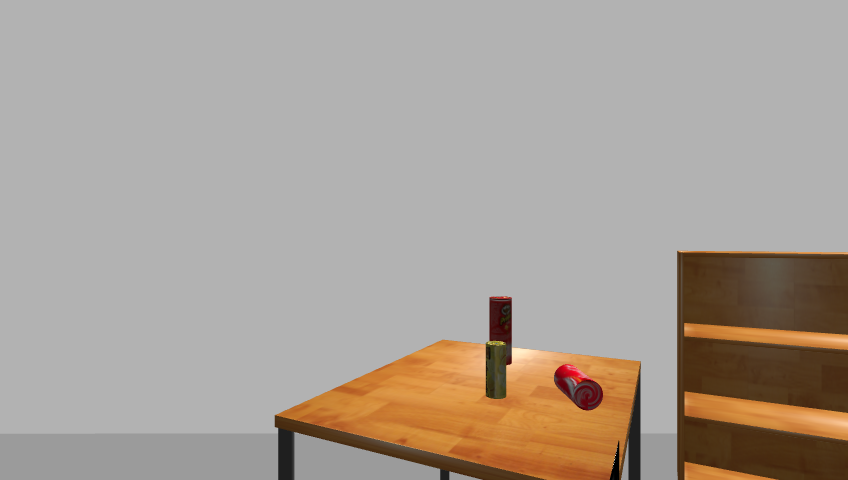aruco marker: (607, 441, 625, 480)
biscuits pack: (483, 341, 509, 400)
bookshelf: (672, 249, 848, 479)
coke can: (551, 365, 605, 411)
dinner table: (267, 340, 647, 480)
pringles can: (486, 295, 514, 368)
